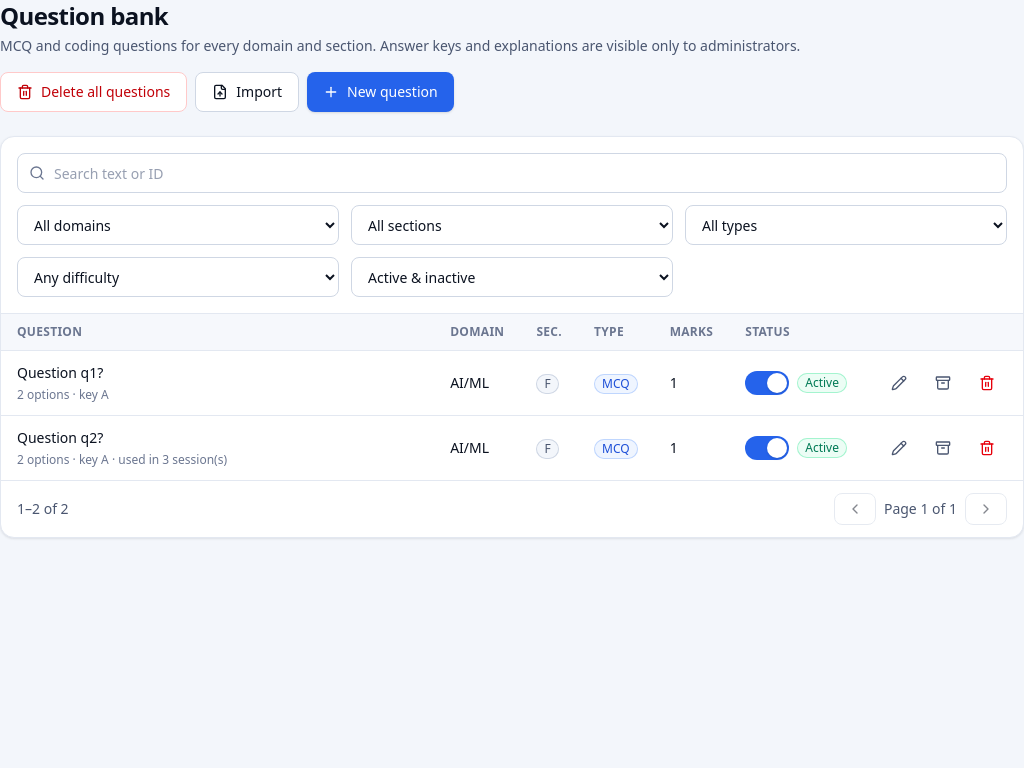
it: QuestionBankPage › permanently deletes a question used in assessments (no archive substitute) and explains what is kept
Step 1. Click the button named "Permanently delete question" in the row of "Question q2?" → (987, 448), box [967,432,1007,464]
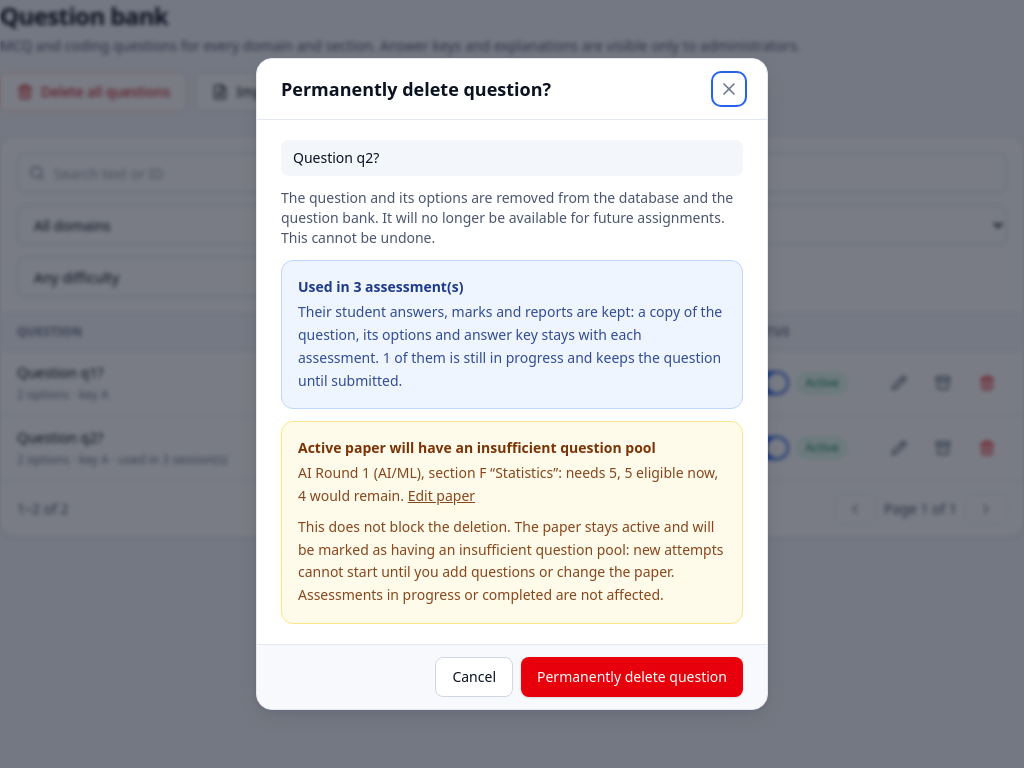
Check: the text "Used in 3 assessment(s)" is shown, box [298,277,463,296]
Check: the text "answers, marks and reports are kept" is shown, box [298,302,722,367]
Check: the text "1 of them is still in progress" is shown, box [298,348,721,390]
Step 2. Click the button "Permanently delete question" → (632, 677), box [521,657,743,697]
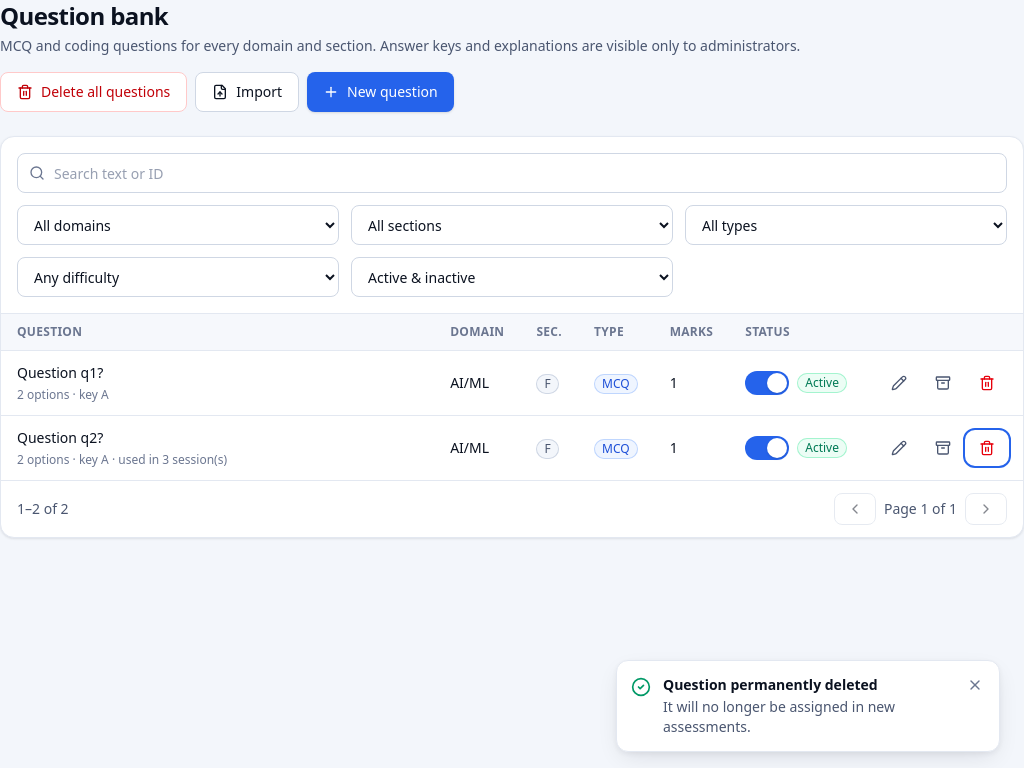
Check: the text "Question permanently deleted" is shown, box [663,675,878,694]
